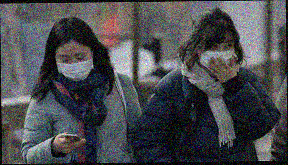with_mask: (198, 38, 236, 72), (55, 49, 94, 80)
